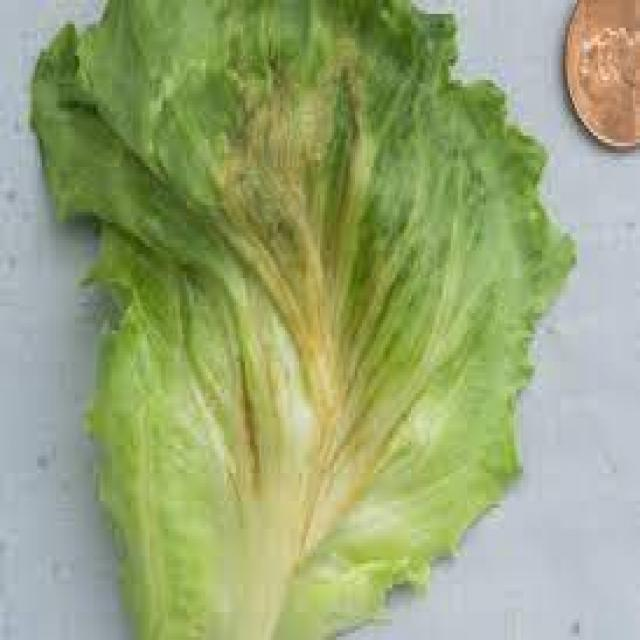Downy_mildew_on_lettuce: (164, 33, 428, 523)
